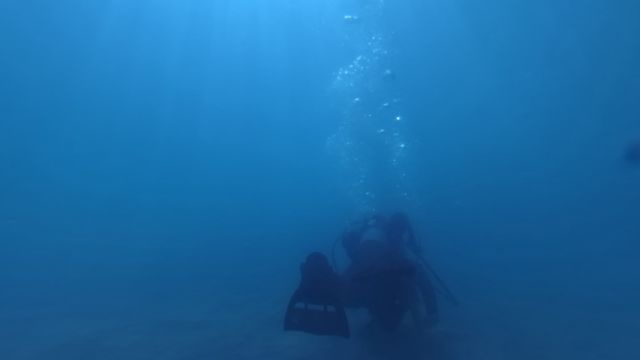Diver: (266, 202, 465, 347)
